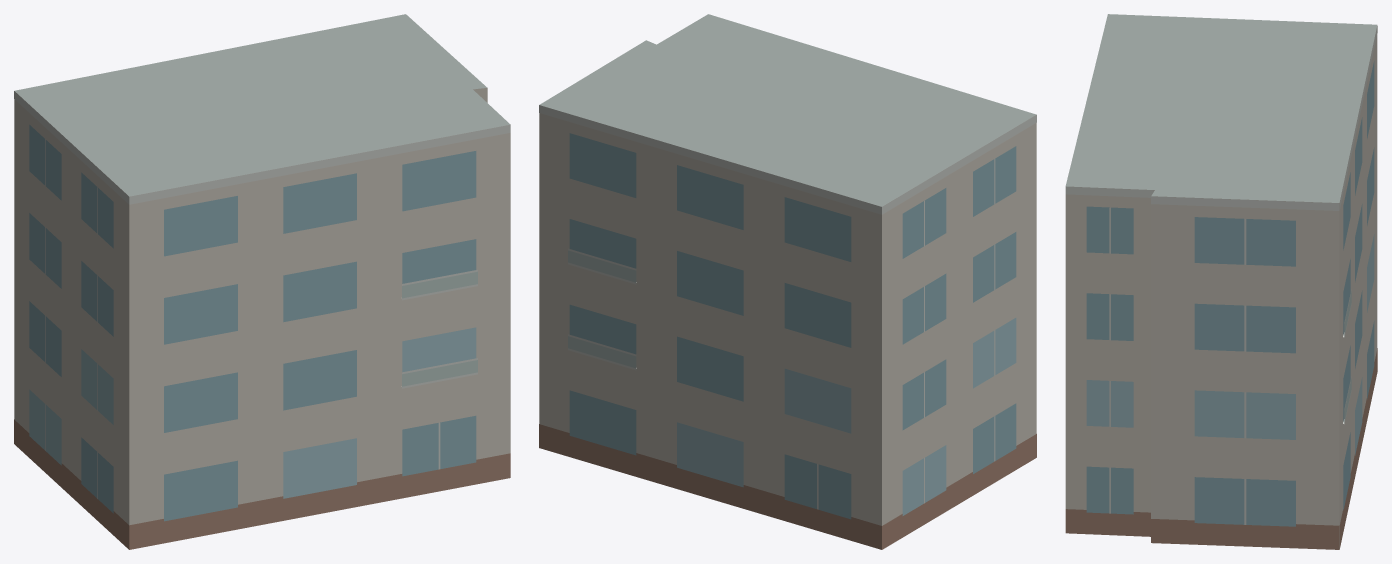
Rendered from survey-upis-32607165.glb.
3 views of the same model, side by side, from view 1: azimuth 30°, elevation 25°; view 2: azimuth 150°, elevation 25°; view 3: azimuth 270°, elevation 25° (orthographic). The views are drawn at different scales.
Parts seen in each view (by area): view 1: survey-upis-32607165.tmp; view 2: survey-upis-32607165.tmp; view 3: survey-upis-32607165.tmp.
Part boxes in pixels (left/top/right/bottom): survey-upis-32607165.tmp: left=14, top=14, right=510, bottom=549; survey-upis-32607165.tmp: left=539, top=14, right=1036, bottom=549; survey-upis-32607165.tmp: left=1065, top=14, right=1377, bottom=549.
Bounding box in the file's own units: 12.4 × 10.6 × 8.65.
